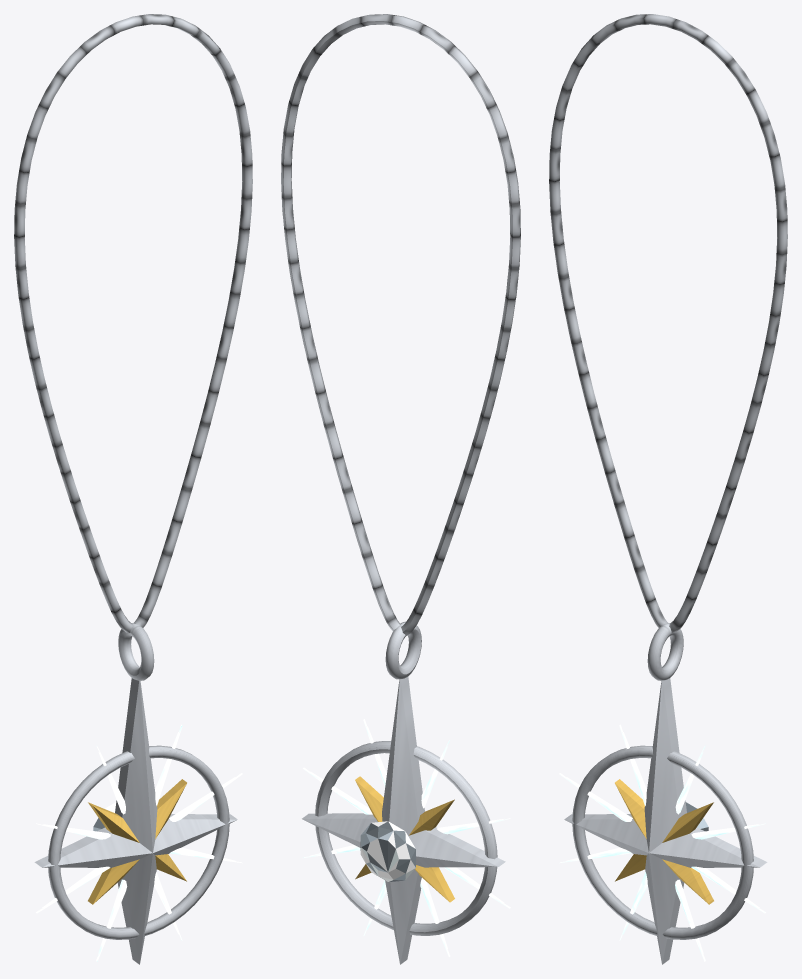
Rendered from NorthStarAmulet.glb.
3 views of the same model, side by side, from view 1: azimuth 30°, elevation 25°; view 2: azimuth 150°, elevation 25°; view 3: azimuth 330°, elevation 25° (orthographic).
Visible parts, largest first — view 1: NorthStarAmulet; view 2: NorthStarAmulet; view 3: NorthStarAmulet.
Part boxes in pixels (x1,y1,x2,y2): NorthStarAmulet: (14,14,252,964); NorthStarAmulet: (281,14,520,964); NorthStarAmulet: (549,14,787,964).
Bounding box in the file's own units: 0.5321 × 2.02 × 0.1453.
1 material, 1 textured.
